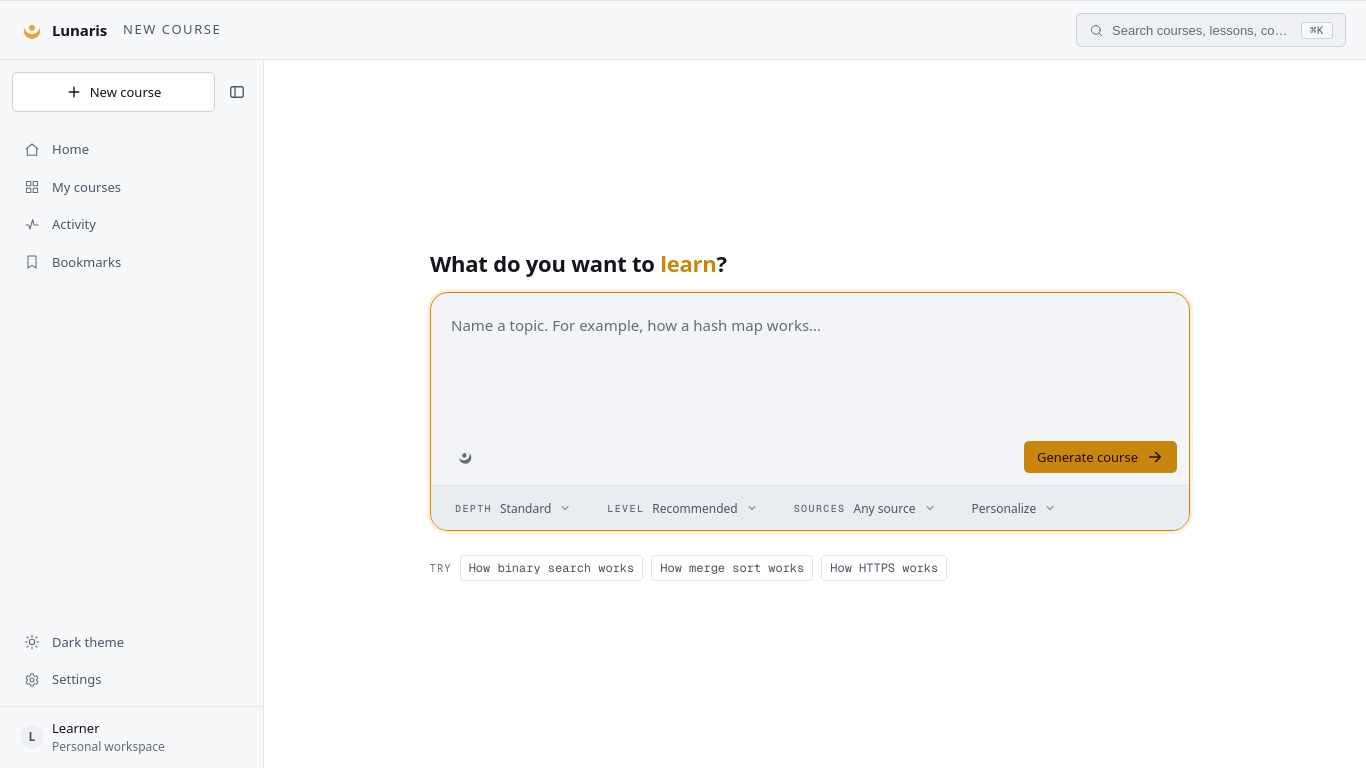
Test: Composer — the Studio | Live fork › turns the moon on and names the state in words, not colour alone
Check: the text "Live" is not shown
Click the button named "live mode" at coordinates (465, 457), box top-left (443, 441), bottom-right (487, 473)
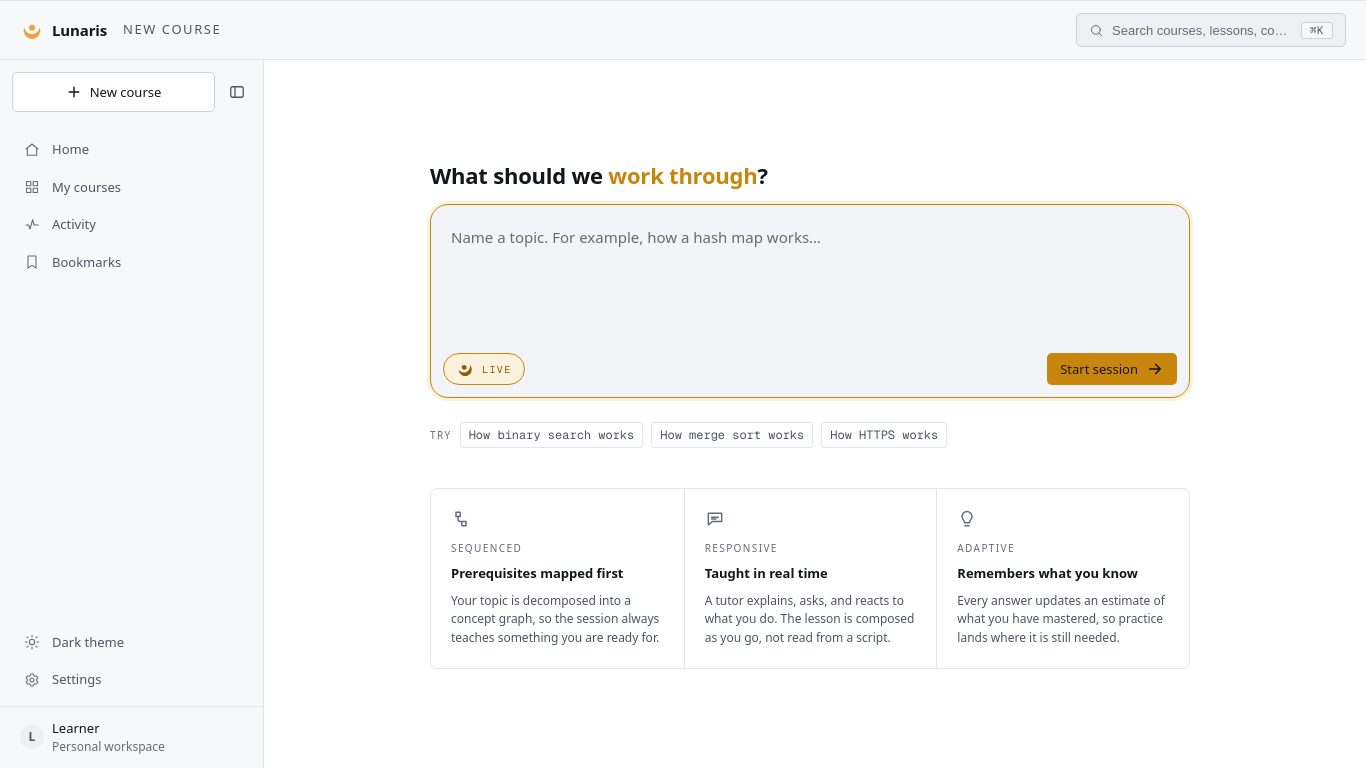
Check: the text "Live" is shown, box top-left (482, 363), bottom-right (512, 376)
